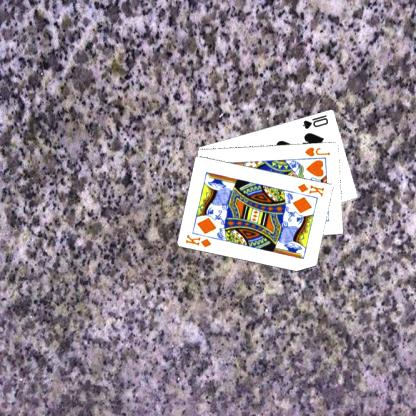10S: (300, 112, 330, 130)
JH: (302, 144, 331, 158)
KD: (295, 181, 325, 198), (182, 232, 213, 248)
